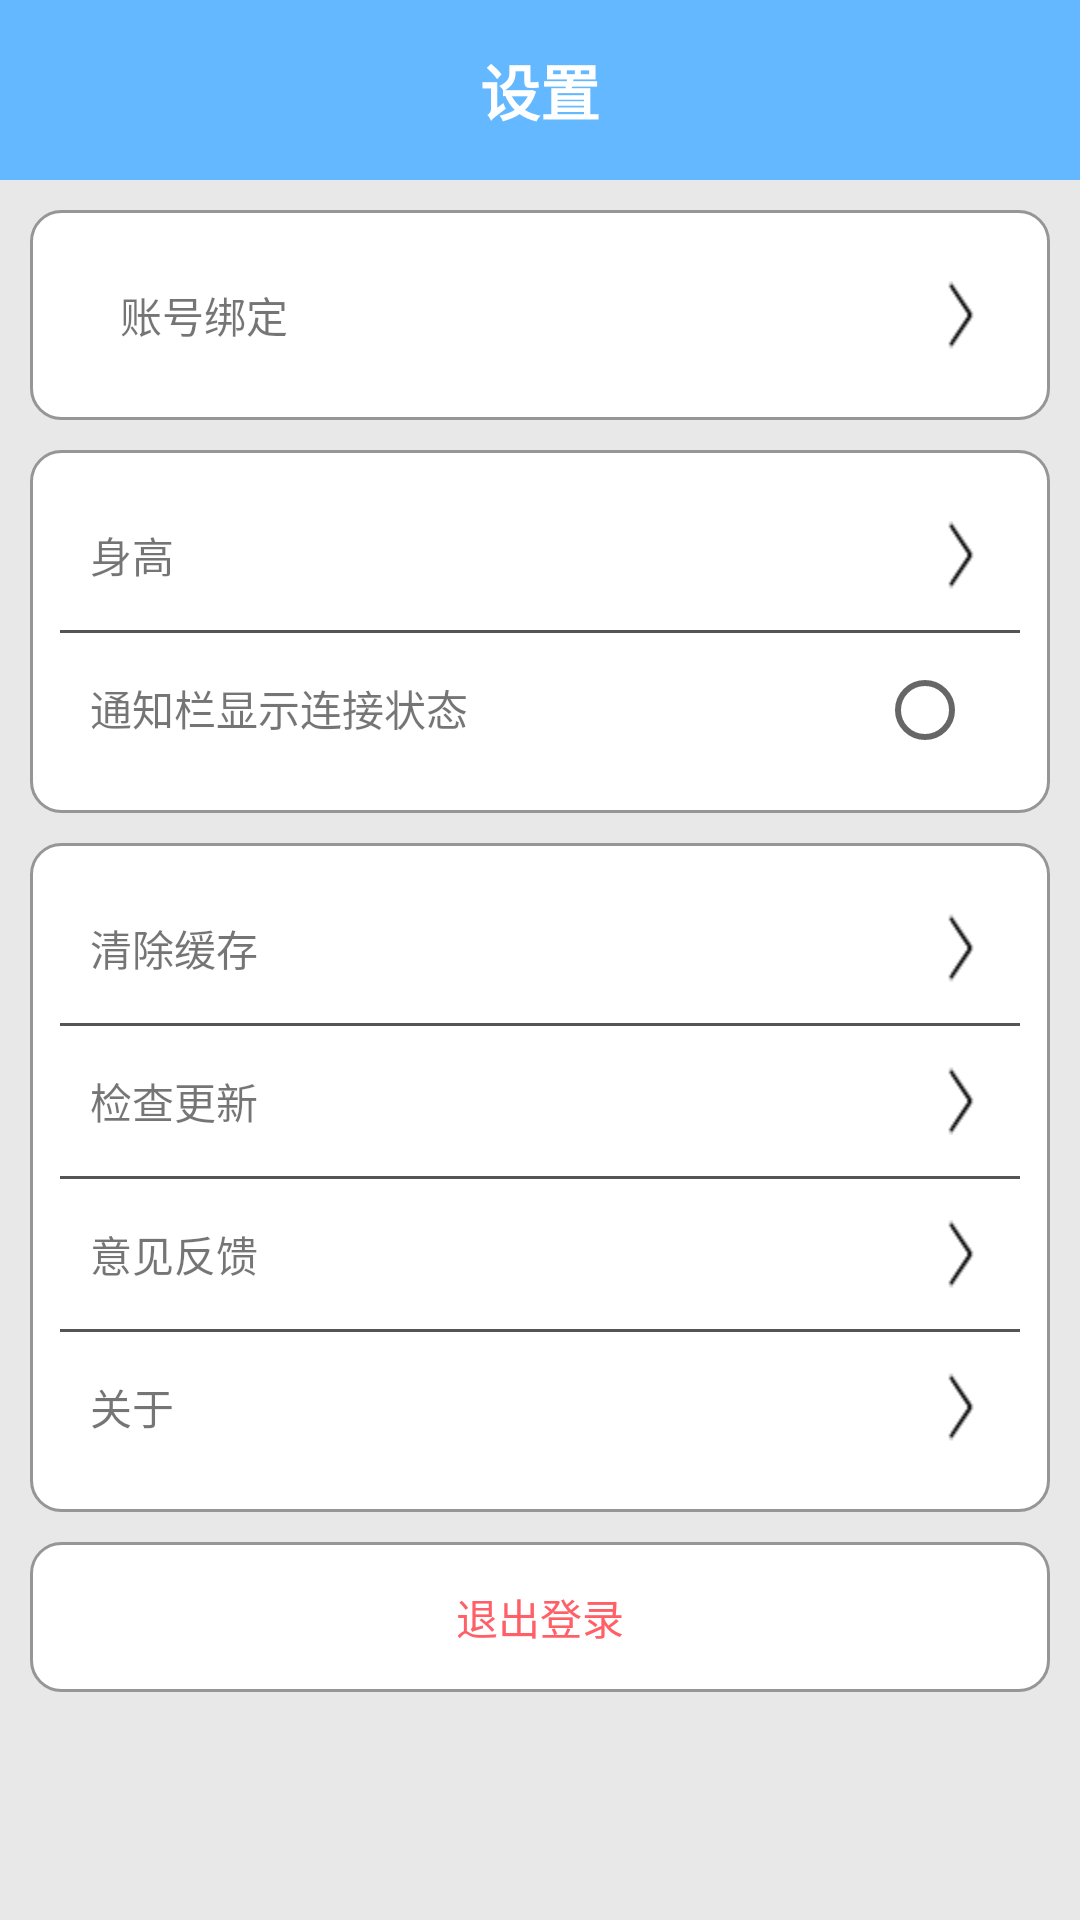

Locate icon controls on the screen. Image size 1080 × 1920, boxes as (x1, y1, x2, y2).
more: (948, 282, 973, 348), (948, 522, 973, 588), (948, 915, 973, 981), (948, 1068, 973, 1134), (948, 1221, 973, 1287), (948, 1374, 973, 1440)
